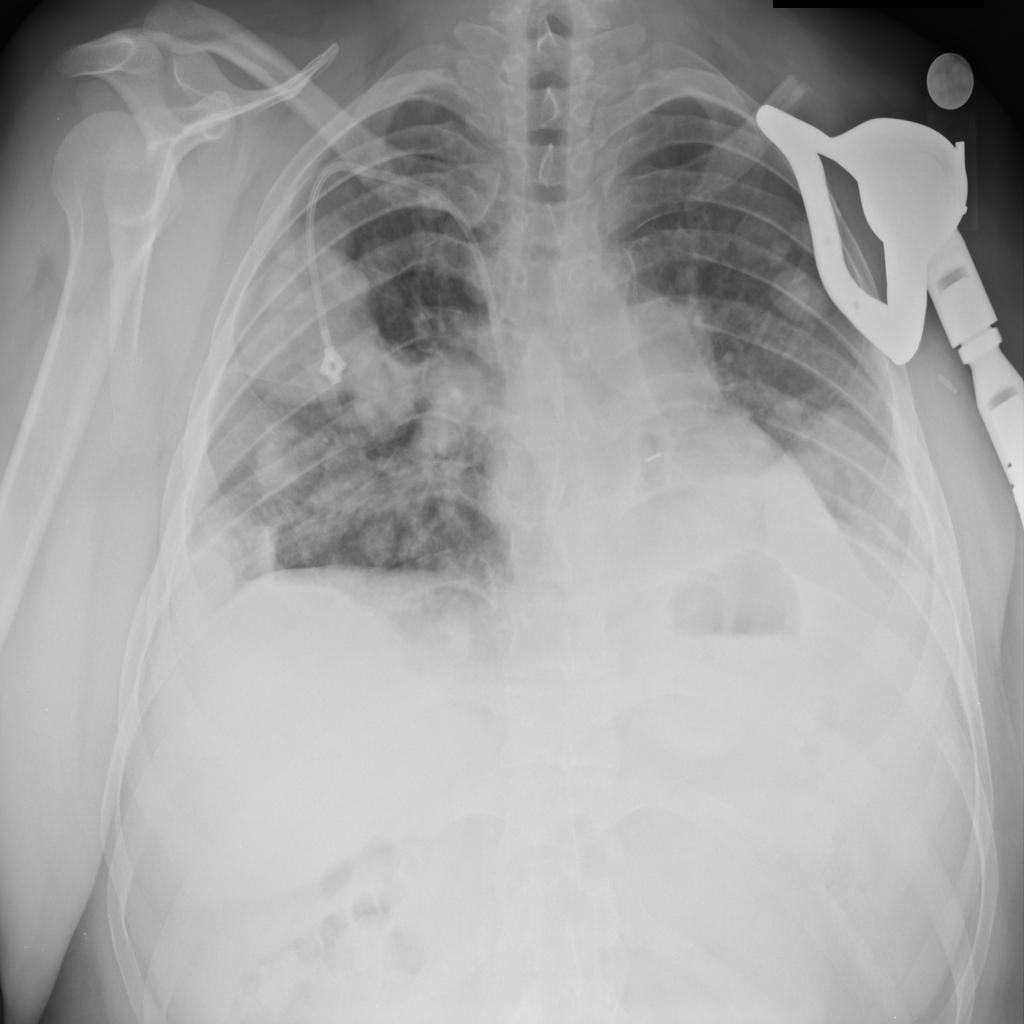nodule: (217, 227, 401, 425), (321, 315, 445, 454), (167, 497, 287, 617), (414, 341, 491, 468), (421, 595, 489, 675), (730, 199, 802, 274), (243, 421, 313, 495), (763, 259, 832, 334), (348, 506, 418, 578), (227, 513, 296, 586), (410, 177, 458, 229)
